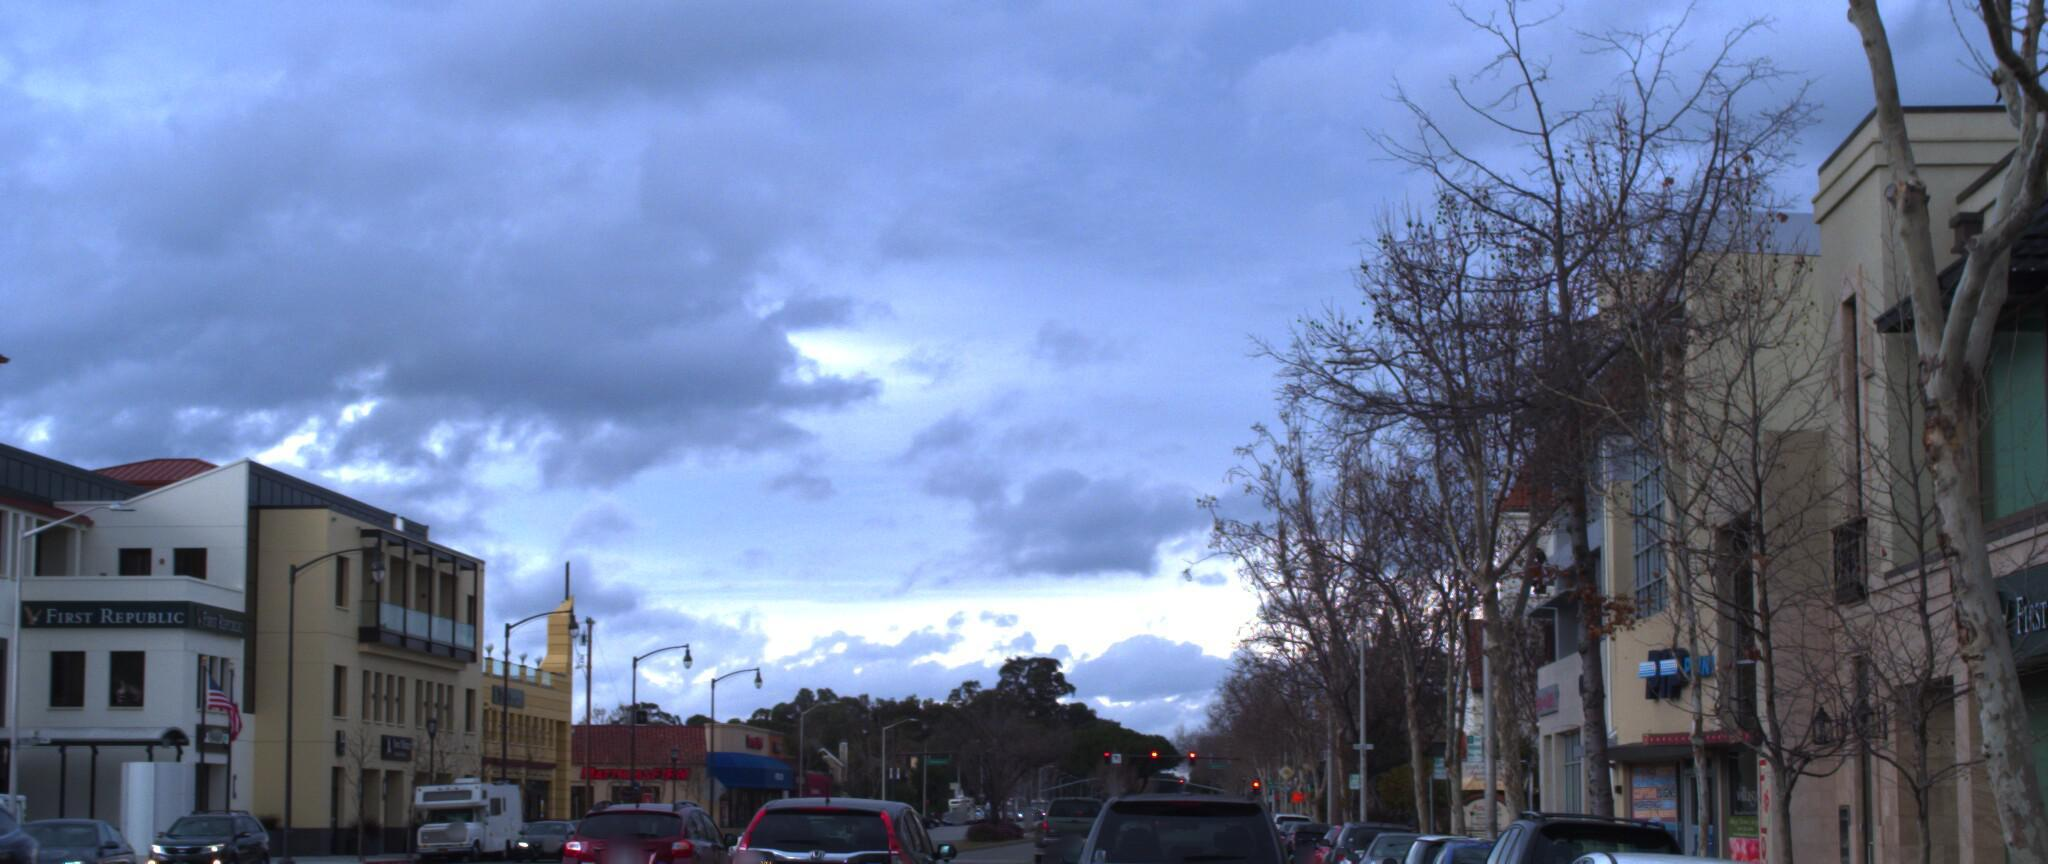car: (1055, 764, 1294, 864), (0, 745, 171, 864), (703, 786, 957, 864), (1437, 799, 1725, 864), (1493, 827, 1904, 864), (546, 790, 737, 864), (148, 797, 287, 864), (0, 810, 167, 864), (1412, 829, 1604, 864), (1347, 821, 1494, 864), (0, 780, 56, 864)
